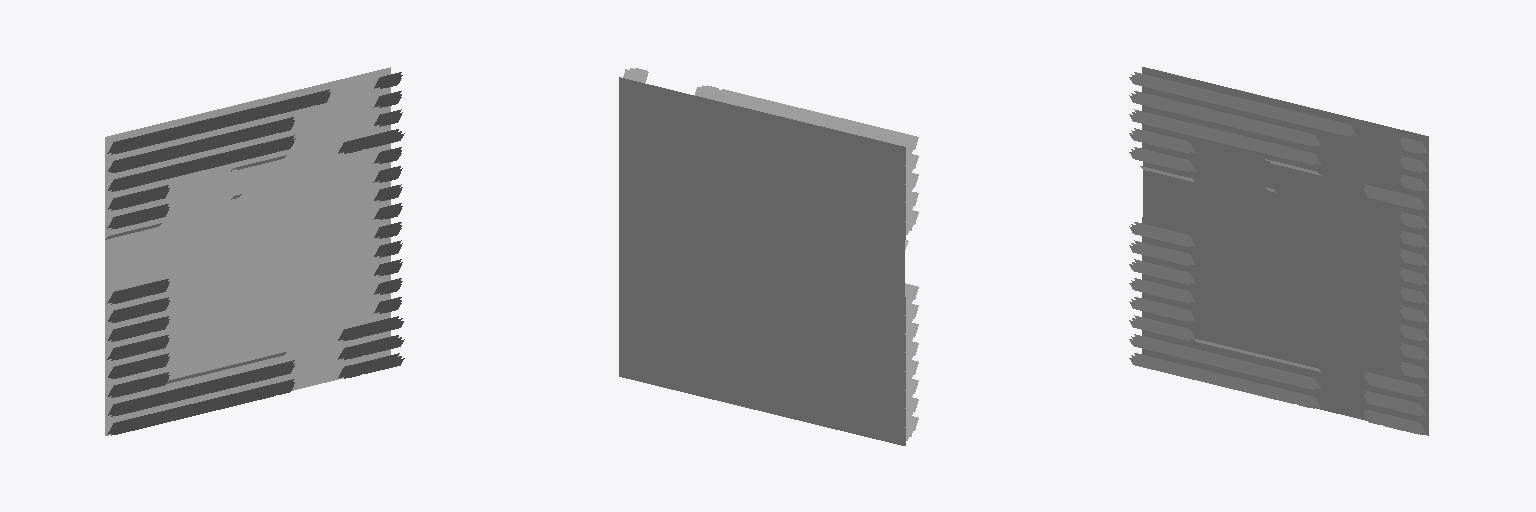
The model's file is Plat_full_04_20.obj.
The picture shows the model from 3 angles: view 1: azimuth 30°, elevation 25°; view 2: azimuth 150°, elevation 25°; view 3: azimuth 330°, elevation 25°; orthographic projection.
Visible parts, largest first — view 1: map; view 2: map; view 3: map.
Part boxes in pixels (left/top/right/bottom): map: left=105, top=67, right=404, bottom=435; map: left=619, top=68, right=918, bottom=445; map: left=1129, top=67, right=1428, bottom=435.
Bounding box in the file's own units: 32.25 × 32.12 × 2.64.